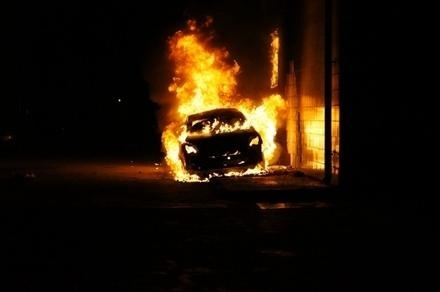fire: (154, 18, 345, 182)
